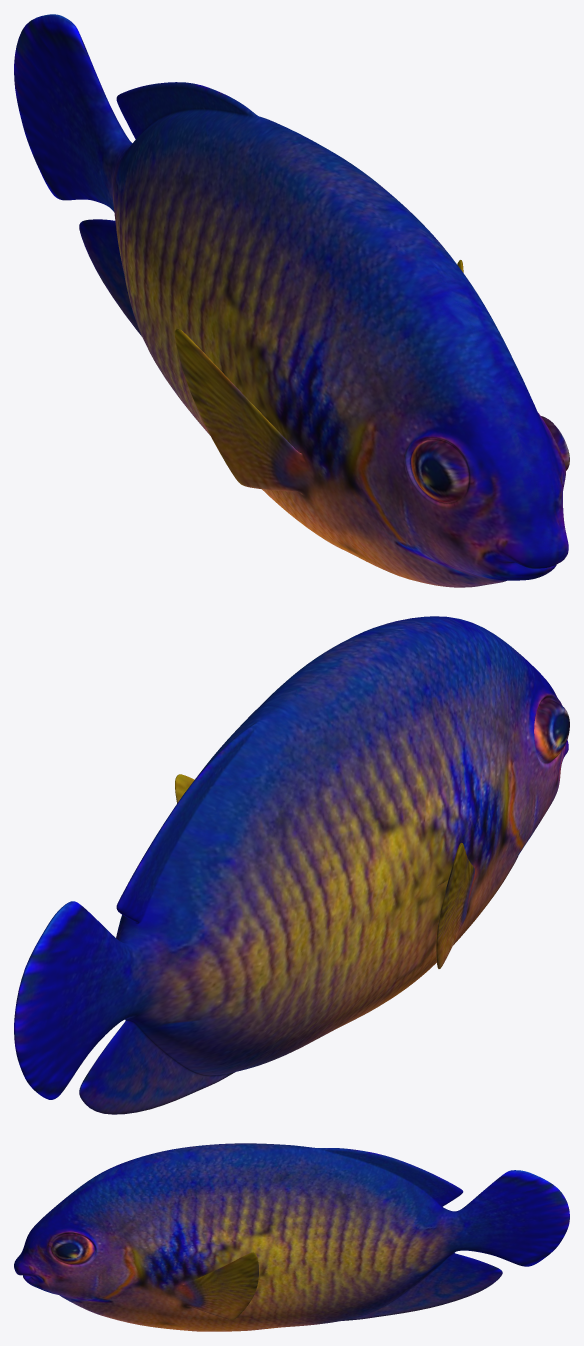
The model's file is angelFish.obj.
3 renders of one model, top to bottom at view 1: azimuth 30°, elevation 25°; view 2: azimuth 150°, elevation 25°; view 3: azimuth 270°, elevation 25°, orthographic. The views are drawn at different scales.
Parts seen in each view (by area): view 1: angelFish; view 2: angelFish; view 3: angelFish.
Part boxes in pixels (bbox=[...]): angelFish: bbox=[14, 14, 569, 587]; angelFish: bbox=[14, 616, 569, 1114]; angelFish: bbox=[14, 1143, 569, 1331].
Size of the model in its own units: 1.48 by 1.74 by 4.81.
